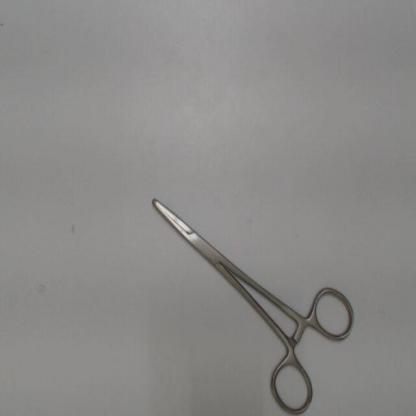Mayo Needle Holder: (141, 186, 361, 414)
